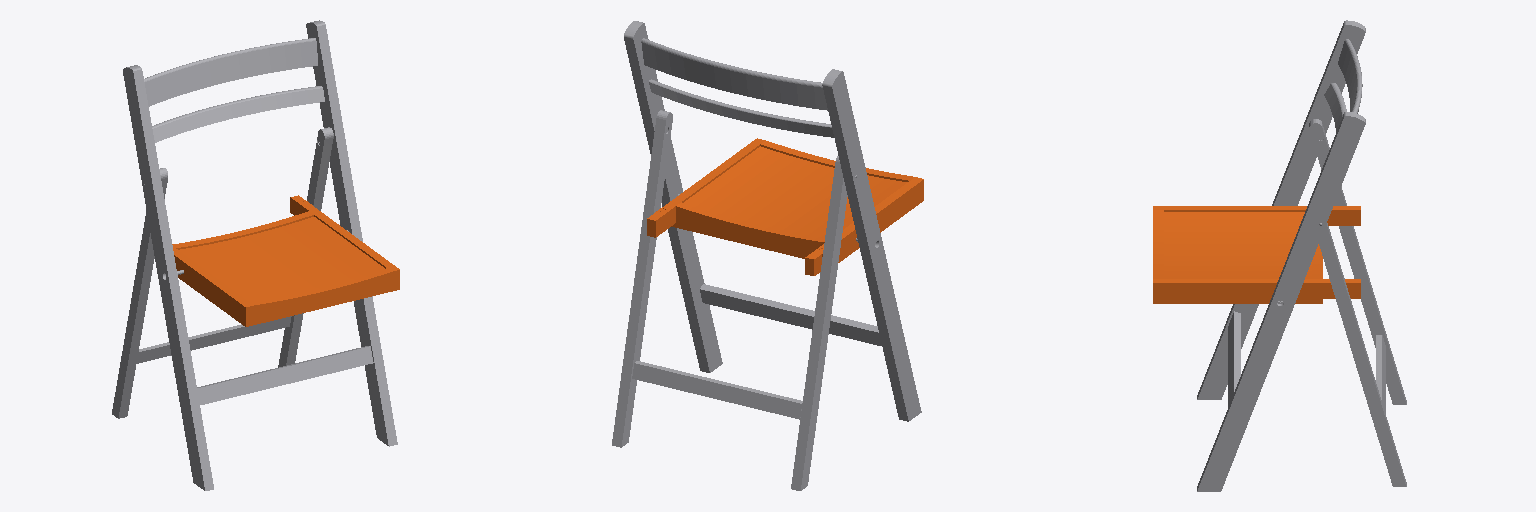
URDF robot description (foldchair_102255):
<?xml version="1.0"?>
<robot name="foldchair_102255">
  <!-- Meshes come from the dataset *_rotate exports, which share the joint frame. -->
  <link name="base_link">
    <visual>
      <origin xyz="0 0 0" rpy="0 0 0"/>
      <geometry>
        <mesh filename="meshes/foldchair_102255_base.obj"/>
      </geometry>
      <material name="steel_grey">
        <color rgba="0.70 0.70 0.72 1.0"/>
      </material>
    </visual>
    <collision>
      <origin xyz="0 0 0" rpy="0 0 0"/>
      <geometry>
        <mesh filename="meshes/foldchair_102255_base.obj"/>
      </geometry>
    </collision>
    <inertial>
      <origin xyz="-0.015693960 0.143473919 0.358712350" rpy="0 0 0"/>
      <mass value="0.067129136"/>
      <inertia ixx="0.018407480" ixy="0.000000000" ixz="0.000000000" iyy="0.019099069" iyz="0.000000000" izz="0.008189704"/>
    </inertial>
  </link>

  <link name="moving_link">
    <visual>
      <origin xyz="0 0 0" rpy="0 0 0"/>
      <geometry>
        <mesh filename="meshes/foldchair_102255_moving.obj"/>
      </geometry>
      <material name="handle_orange">
        <color rgba="0.93 0.47 0.16 1.0"/>
      </material>
    </visual>
    <collision>
      <origin xyz="0 0 0" rpy="0 0 0"/>
      <geometry>
        <mesh filename="meshes/foldchair_102255_moving.obj"/>
      </geometry>
    </collision>
    <inertial>
      <origin xyz="-0.007925004 0.163360724 0.010113932" rpy="0 0 0"/>
      <mass value="0.032870864"/>
      <inertia ixx="0.001816991" ixy="0.000000000" ixz="0.000000000" iyy="0.001436736" iyz="0.000000000" izz="0.003211894"/>
    </inertial>
  </link>

  <joint name="scissor_hinge" type="revolute">
    <origin xyz="0.000000000 -0.012001708 0.007995042" rpy="0 0 0"/>
    <parent link="base_link"/>
    <child link="moving_link"/>
    <axis xyz="1.000000000 0.000000000 0.000000000"/>
    <limit lower="-1.396263402" upper="0.000000000" effort="5.0" velocity="4.0"/>
    <dynamics damping="0.05" friction="0.02"/>
  </joint>
</robot>

--- Facts derived from the render (not from the file) ---
The picture shows the robot from 3 angles, left to right: view 1: azimuth 30°, elevation 25°; view 2: azimuth 150°, elevation 25°; view 3: azimuth 270°, elevation 25°; orthographic projection.
Model foldchair_102255 with 2 links and 1 joints (1 revolute), rooted at base_link, posed all joints at 0.
Links seen in each view (by area): view 1: base_link, moving_link; view 2: base_link, moving_link; view 3: base_link, moving_link.
Link boxes in pixels (<box>): base_link: <box>112,20,397,490</box>; moving_link: <box>172,195,399,326</box>; base_link: <box>612,21,921,490</box>; moving_link: <box>647,138,923,275</box>; base_link: <box>1197,20,1406,491</box>; moving_link: <box>1153,206,1360,303</box>.
Bounding box of the posed robot: 0.891 × 0.9893 × 1.62 m (x, y, z).
2 mesh visuals loaded from 2 distinct referenced files (2 OBJ).
